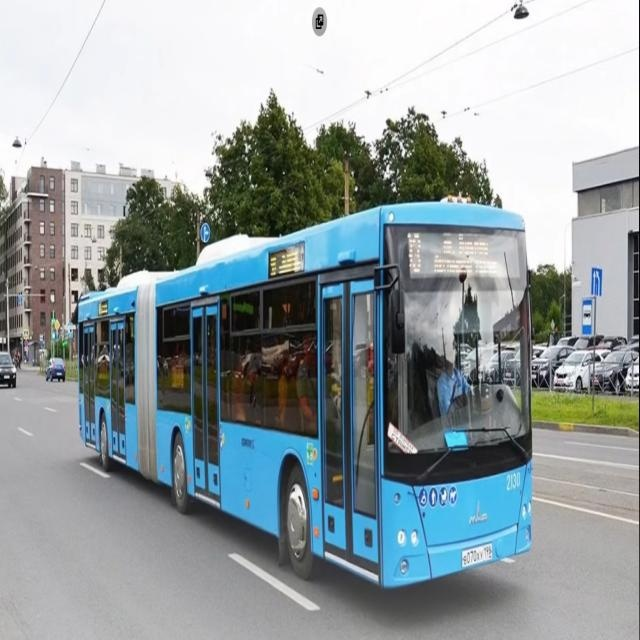Bus: (77, 192, 533, 588)
